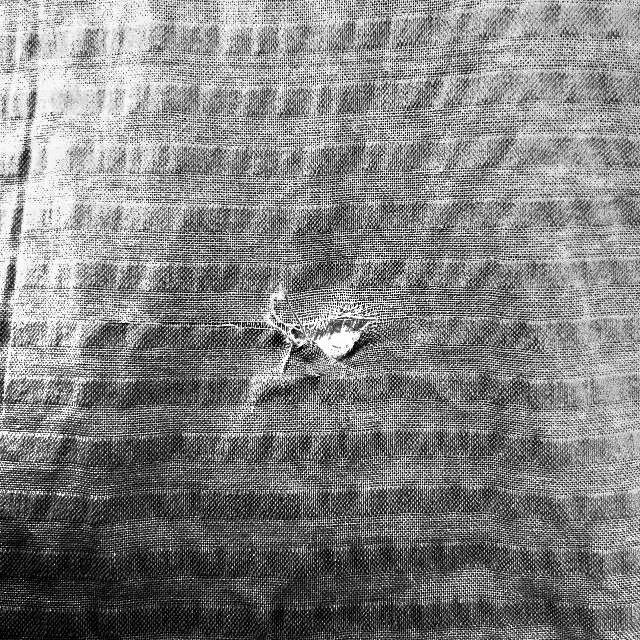Hole: (248, 276, 384, 398)
